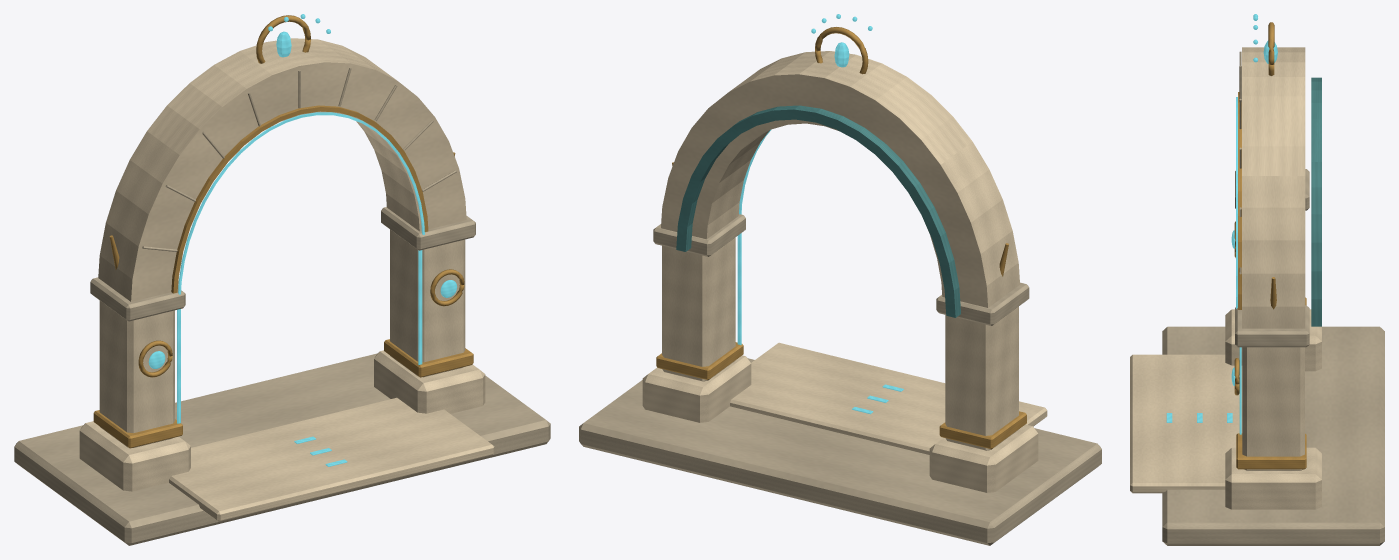
File: portus-portal-gate.glb
3 views of the same model, side by side, from view 1: azimuth 30°, elevation 25°; view 2: azimuth 150°, elevation 25°; view 3: azimuth 270°, elevation 25° (orthographic). The views are drawn at different scales.
Visible parts, largest first — view 1: Portal arch, Portal plinth, Portal threshold, Portal pier, Portal pier.001, Portal foot, Portal foot.001, Portal bronze inset, Pier crown, Pier crown.001, Portal luminous seam, Pier base binding (+2 smaller); view 2: Portal plinth, Portal arch, Portal threshold, Portal pier.001, Portal pier, Rear portal echo, Portal foot, Portal foot.001, Pier crown, Pier crown.001, Pier base binding, Pier base binding.001 (+1 smaller); view 3: Portal plinth, Portal arch, Portal threshold, Portal pier.001, Portal foot.001, Rear portal echo, Pier crown.001, Portal foot, Pier base binding.001, Portal bronze inset, Portal luminous seam, Crown orbit.
Boxes of the visible parts, box(x1,y1,x2,y2) form: Portal arch: box(98, 38, 466, 301); Portal plinth: box(14, 353, 550, 545); Portal threshold: box(169, 397, 494, 521); Portal pier: box(99, 300, 174, 447); Portal pier.001: box(390, 229, 465, 377); Portal foot: box(79, 421, 190, 491); Portal foot.001: box(374, 350, 485, 413); Portal bronze inset: box(171, 105, 428, 293); Pier crown: box(90, 277, 185, 321); Pier crown.001: box(381, 207, 475, 250); Portal luminous seam: box(178, 112, 424, 294); Pier base binding: box(93, 410, 182, 448); Portal plinth: box(579, 358, 1101, 545); Portal arch: box(661, 51, 1019, 307); Portal threshold: box(730, 342, 1047, 454); Portal pier.001: box(662, 237, 735, 381); Portal pier: box(945, 306, 1018, 450); Rear portal echo: box(676, 105, 960, 317); Portal foot: box(929, 424, 1038, 492); Portal foot.001: box(642, 355, 751, 422); Pier crown: box(936, 282, 1029, 325); Pier crown.001: box(653, 214, 745, 256); Pier base binding: box(939, 411, 1026, 449); Pier base binding.001: box(656, 342, 743, 379); Portal plinth: box(1162, 326, 1384, 545); Portal arch: box(1242, 47, 1305, 328); Portal threshold: box(1130, 354, 1242, 493); Portal pier.001: box(1242, 347, 1304, 470); Portal foot.001: box(1225, 447, 1321, 509); Rear portal echo: box(1311, 77, 1321, 326); Pier crown.001: box(1235, 305, 1309, 347); Portal foot: box(1225, 309, 1321, 371); Pier base binding.001: box(1236, 433, 1306, 469); Portal bronze inset: box(1238, 92, 1241, 309); Portal luminous seam: box(1236, 97, 1237, 308); Crown orbit: box(1268, 22, 1274, 75).
Size of the model in its own units: 6.6 by 6.6 by 3.55.
Materials: 2 (2 with a texture image).
